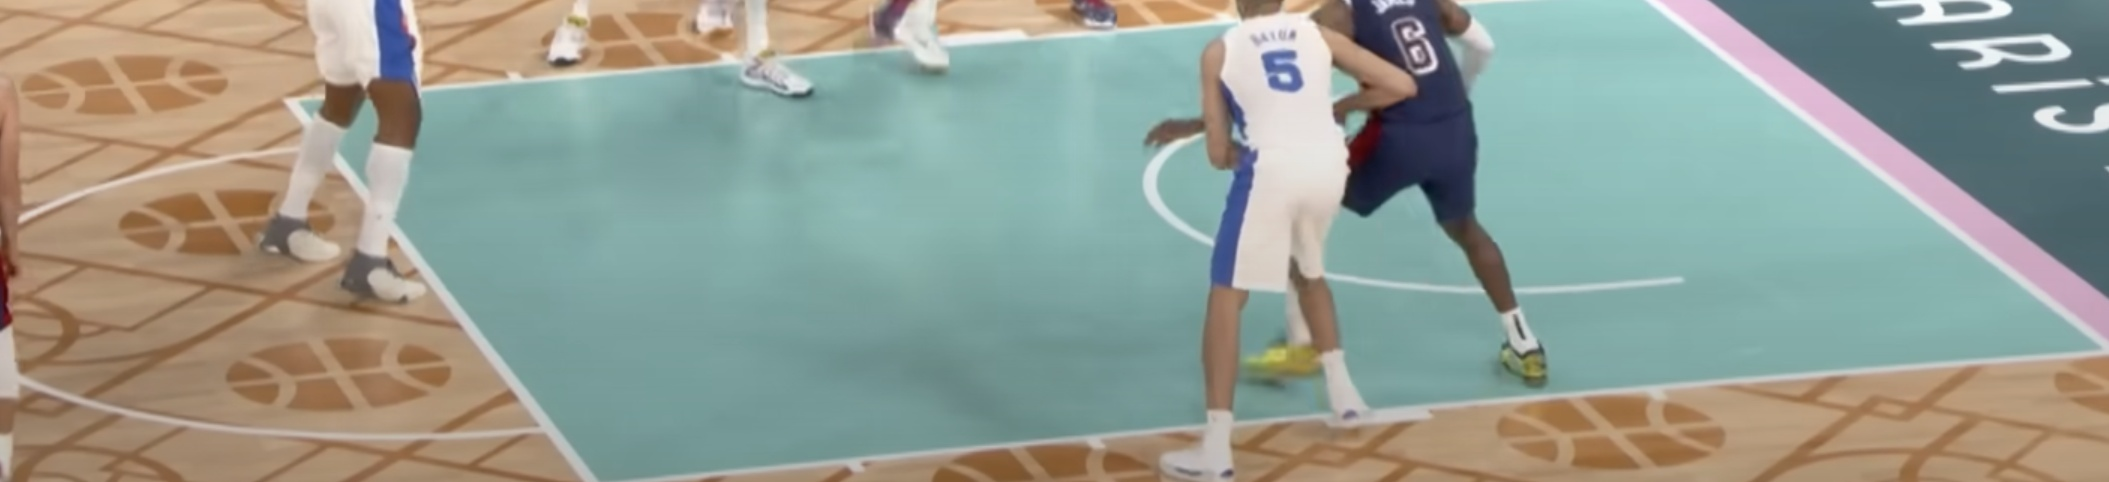endLine: (1649, 4, 2109, 350)
freeThrow: (291, 100, 588, 482)
lane: (662, 350, 2109, 481), (293, 1, 1523, 100)
